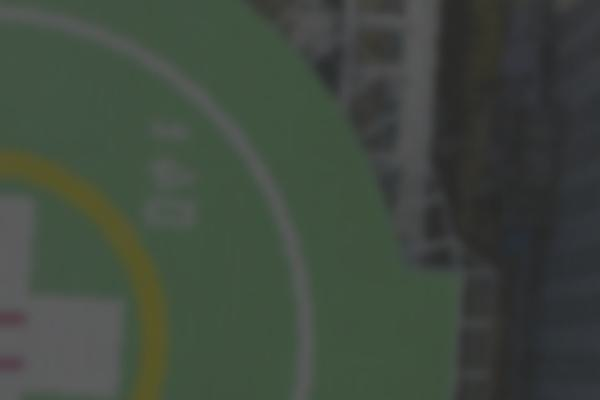Apron: (2, 139, 177, 400)
